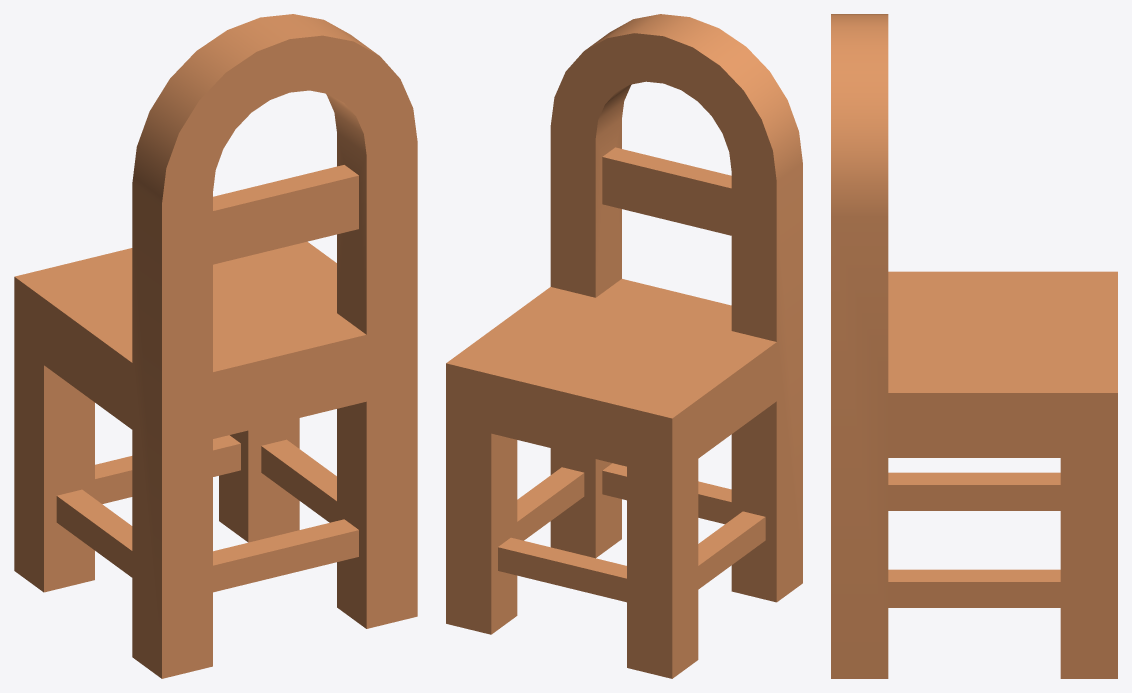
The model's file is chairRounded.obj.
3 renders of one model, left to right at view 1: azimuth 30°, elevation 25°; view 2: azimuth 150°, elevation 25°; view 3: azimuth 270°, elevation 25°, orthographic. The views are drawn at different scales.
Parts seen in each view (by area): view 1: chairRounded; view 2: chairRounded; view 3: chairRounded.
Part boxes in pixels (x1,y1,x2,y2): chairRounded: (14,14,417,678); chairRounded: (446,14,802,678); chairRounded: (831,14,1117,678).
Bounding box in the file's own units: 0.2 × 0.455 × 0.2.
